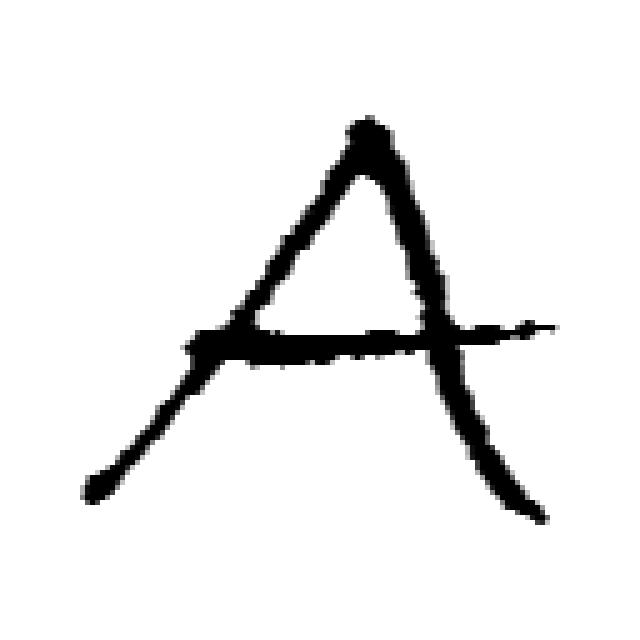A: (87, 111, 561, 531)
